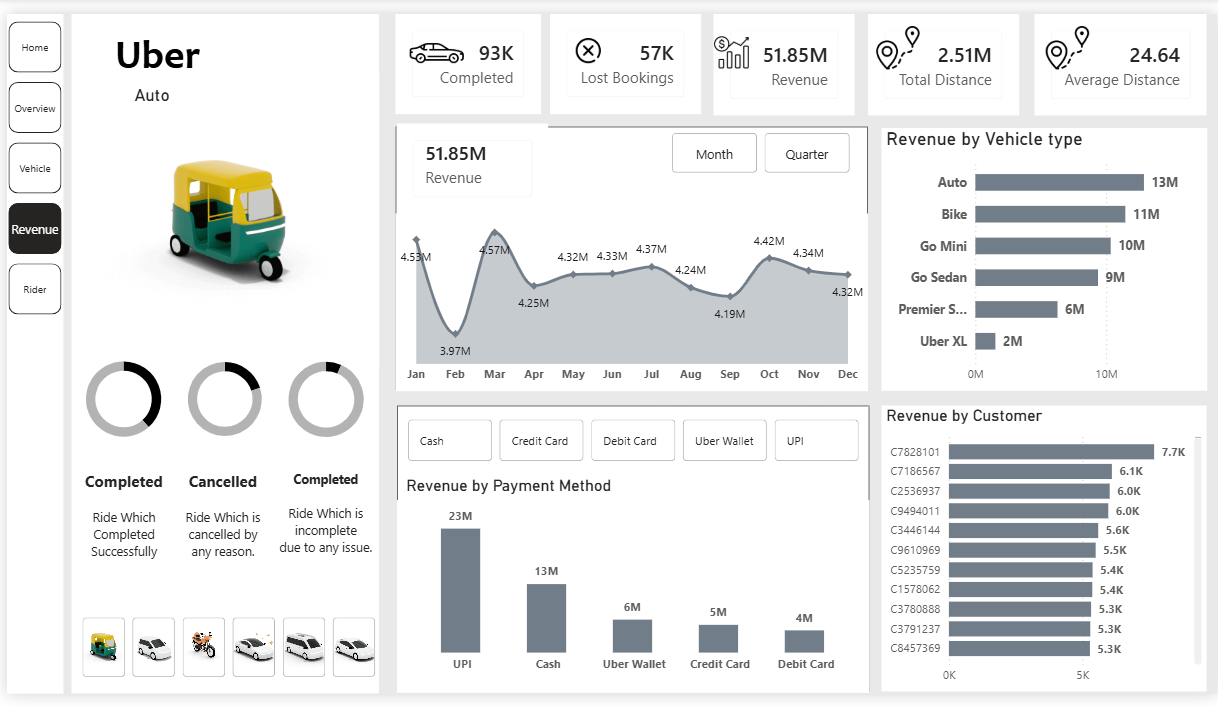

This screenshot's page, from the dashboard's own definition file:
{"tool":"powerbi","page":{"name":"Revenue","canvas":[1280,720],"ordinal":3},"visuals":[{"type":"shape","box":[68.5,0.7,325.4,719],"z":0,"group":"g4"},{"type":"group","id":"g1","title":"Group 2","box":[411.1,119.1,500,279.4],"z":0,"group":"g5"},{"type":"shape","box":[411.1,119.1,500,279.4],"z":0,"group":"g1"},{"type":"group","id":"g2","title":"Group 3","box":[413,414.3,500,303.2],"z":0},{"type":"group","id":"g3","title":"Group 2","box":[413,414.3,500,303.2],"z":0,"group":"g2"},{"type":"shape","box":[413,414.3,500,303.2],"z":0,"group":"g3"},{"type":"shape","box":[0,0,59.7,719.4],"z":1000},{"type":"cardVisual","fields":{"Data":["_measure.Booking Value"]},"box":[412.5,115.8,160.3,95.2],"z":1000,"group":"g5"},{"type":"cardVisual","fields":{"Data":["_measure.Completed Bookings"]},"box":[410.4,0,153.7,106],"z":2000},{"type":"textbox","box":[110.1,12.1,107.1,64.2],"z":2000,"group":"g4"},{"type":"cardVisual","fields":{"Data":["_measure.Lost Bookings"]},"box":[574.6,0,159.7,106],"z":3000},{"type":"cardVisual","fields":{"Data":["_measure.Booking Value"]},"box":[747.8,0,149.3,107.5],"z":4000},{"type":"cardVisual","fields":{"Data":["_measure.Total Distance"]},"box":[910.4,0,159.7,107.5],"z":5000},{"type":"group","id":"g4","title":"Group 1","box":[68.5,0.7,325.4,719],"z":6000},{"type":"cardVisual","fields":{"Data":["_measure.Average Distance"]},"box":[1086.6,0,182.1,107.5],"z":7000},{"type":"advancedSlicerVisual","fields":{"Values":["Img.Img"]},"box":[74.6,633.3,325.4,73],"z":8000},{"type":"cardVisual","fields":{"Data":["Min(Img.Img)"]},"box":[74.6,61.9,319,311.1],"z":9000},{"type":"card","fields":{"Values":["Min(Img.Vehicle Type)"]},"box":[69.8,63.5,166.7,44.4],"z":10000},{"type":"lineChart","fields":{"Category":["calender.Month","calender.Quarter"],"Y":["_measure.Revenue"]},"box":[411.1,210.7,500,187.8],"z":10000,"group":"g1"},{"type":"clusteredColumnChart","fields":{"Category":["Uber.Payment Method"]},"box":[413,513.7,500,203.8],"z":10000,"group":"g3"},{"type":"group","id":"g5","title":"Group 3","box":[411.1,115.8,500,282.6],"z":11000},{"type":"clusteredBarChart","title":"Revenue by Vehicle type","fields":{"Category":["Img.Vehicle Type"],"Y":["_measure.Revenue"]},"box":[925.4,120.6,344.4,277.8],"z":12000},{"type":"advancedSlicerVisual","fields":{"Values":["Date Axis.Date Axis"]},"box":[698.4,120.6,198.4,52.4],"z":13000},{"type":"textbox","box":[71.4,477.8,104.8,131.7],"z":14000},{"type":"group","id":"g6","title":"Group 4","box":[68.3,342.9,323.8,128.6],"z":15000},{"type":"textbox","box":[176.2,477.8,104.8,131.7],"z":16000},{"type":"textbox","box":[281,477.8,112.7,131.7],"z":17000},{"type":"image","box":[417.5,12.7,74.6,57.1],"z":18000},{"type":"image","box":[734.9,22.2,63.5,36.5],"z":19000},{"type":"image","box":[911.1,12.7,63.5,46],"z":20000},{"type":"donutChart","fields":{"Y":["_measure.Booking count","_measure.remove Bookings status Filter"]},"box":[176.2,342.9,107.9,128.6],"z":20000,"group":"g6"},{"type":"image","box":[1090.5,12.7,63.5,46],"z":21000},{"type":"donutChart","fields":{"Y":["_measure.Booking count","_measure.remove Bookings status Filter"]},"box":[282.6,347.4,109.5,119.6],"z":21000,"group":"g6"},{"type":"image","box":[590.5,25.4,49.2,27],"z":22000},{"type":"donutChart","fields":{"Y":["_measure.Booking count","_measure.remove Bookings status Filter"]},"box":[68.3,342.9,109.5,128.6],"z":22000,"group":"g6"},{"type":"clusteredColumnChart","title":"Revenue by Payment Method","fields":{"Y":["Sum(Uber.Booking Value)"],"Category":["Uber.Payment Method"]},"box":[417.9,489.1,492.1,216.5],"z":23000},{"type":"advancedSlicerVisual","fields":{"Values":["Uber.Payment Method"]},"box":[419.4,424,490.6,54.5],"z":24000},{"type":"clusteredBarChart","title":"Revenue by Customer ","fields":{"Y":["_measure.Revenue"],"Category":["Uber.Customer ID"]},"box":[925.2,414.9,343.7,302.8],"z":25000},{"type":"pageNavigator","box":[1.5,7.5,56.7,310.4],"z":26000}]}

Visuals, with their boxes on the page's 1280x720 design canvas (x1, y1, x2, y2). These are canvas units, not pixel positions in the 1218x707 screenshot, which may show the page scaled, cropped or inside an application window:
shape: x1=68, y1=1, x2=394, y2=720
"Group 2" group: x1=411, y1=119, x2=911, y2=398
shape: x1=411, y1=119, x2=911, y2=398
"Group 3" group: x1=413, y1=414, x2=913, y2=718
"Group 2" group: x1=413, y1=414, x2=913, y2=718
shape: x1=413, y1=414, x2=913, y2=718
shape: x1=0, y1=0, x2=60, y2=719
cardVisual - _measure.Booking Value: x1=412, y1=116, x2=573, y2=211
cardVisual - _measure.Completed Bookings: x1=410, y1=0, x2=564, y2=106
textbox: x1=110, y1=12, x2=217, y2=76
cardVisual - _measure.Lost Bookings: x1=575, y1=0, x2=734, y2=106
cardVisual - _measure.Booking Value: x1=748, y1=0, x2=897, y2=108
cardVisual - _measure.Total Distance: x1=910, y1=0, x2=1070, y2=108
"Group 1" group: x1=68, y1=1, x2=394, y2=720
cardVisual - _measure.Average Distance: x1=1087, y1=0, x2=1269, y2=108
advancedSlicerVisual - Img.Img: x1=75, y1=633, x2=400, y2=706
cardVisual - Min(Img.Img): x1=75, y1=62, x2=394, y2=373
card - Min(Img.Vehicle Type): x1=70, y1=64, x2=236, y2=108
lineChart - calender.Month x calender.Quarter: x1=411, y1=211, x2=911, y2=398
clusteredColumnChart - Uber.Payment Method: x1=413, y1=514, x2=913, y2=718
"Group 3" group: x1=411, y1=116, x2=911, y2=398
"Revenue by Vehicle type" clusteredBarChart: x1=925, y1=121, x2=1270, y2=398
advancedSlicerVisual - Date Axis.Date Axis: x1=698, y1=121, x2=897, y2=173
textbox: x1=71, y1=478, x2=176, y2=610
"Group 4" group: x1=68, y1=343, x2=392, y2=472
textbox: x1=176, y1=478, x2=281, y2=610
textbox: x1=281, y1=478, x2=394, y2=610
image: x1=418, y1=13, x2=492, y2=70
image: x1=735, y1=22, x2=798, y2=59
image: x1=911, y1=13, x2=975, y2=59
donutChart - _measure.Booking count x _measure.remove Bookings status Filter: x1=176, y1=343, x2=284, y2=472
image: x1=1090, y1=13, x2=1154, y2=59
donutChart - _measure.Booking count x _measure.remove Bookings status Filter: x1=283, y1=347, x2=392, y2=467
image: x1=590, y1=25, x2=640, y2=52
donutChart - _measure.Booking count x _measure.remove Bookings status Filter: x1=68, y1=343, x2=178, y2=472
"Revenue by Payment Method" clusteredColumnChart: x1=418, y1=489, x2=910, y2=706
advancedSlicerVisual - Uber.Payment Method: x1=419, y1=424, x2=910, y2=478
"Revenue by Customer " clusteredBarChart: x1=925, y1=415, x2=1269, y2=718
pageNavigator: x1=2, y1=8, x2=58, y2=318
